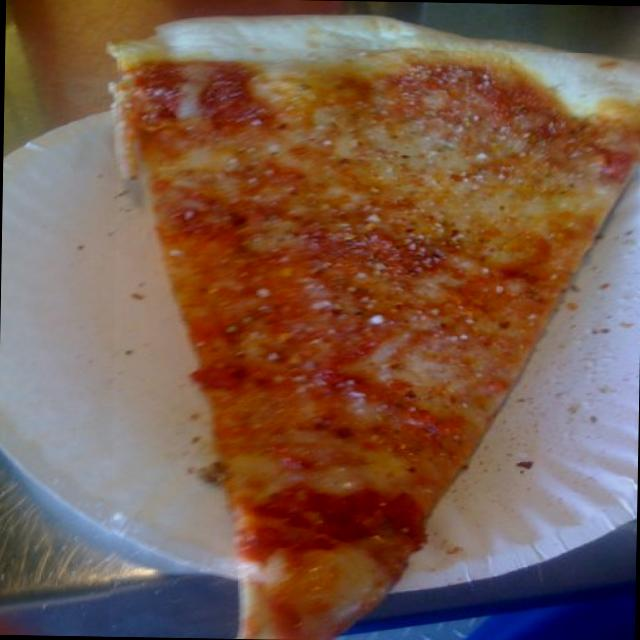pizza: (119, 50, 639, 638)
